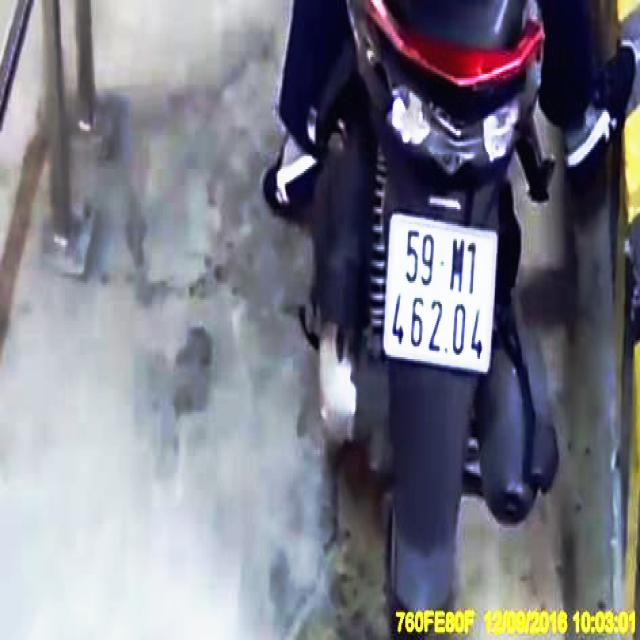license_plate: (386, 220, 500, 374)
